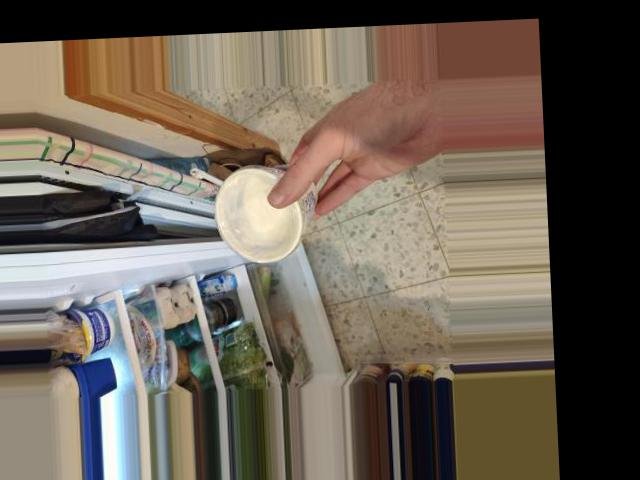cotage: (200, 162, 326, 262)
